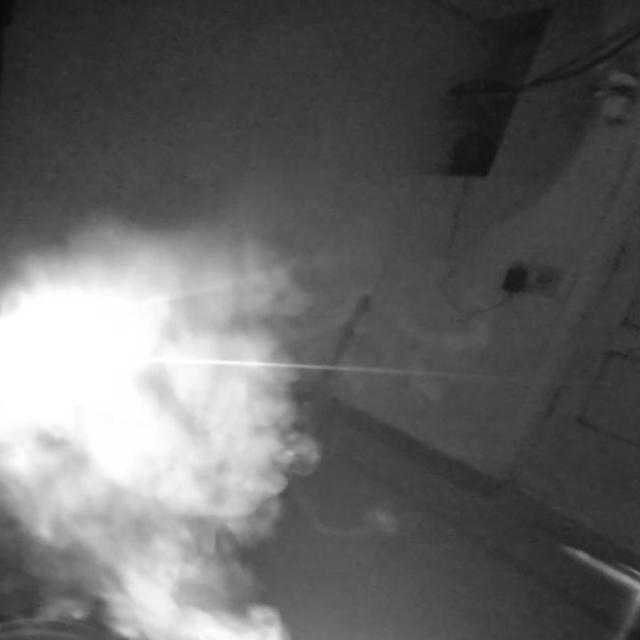fire: (0, 211, 329, 640)
